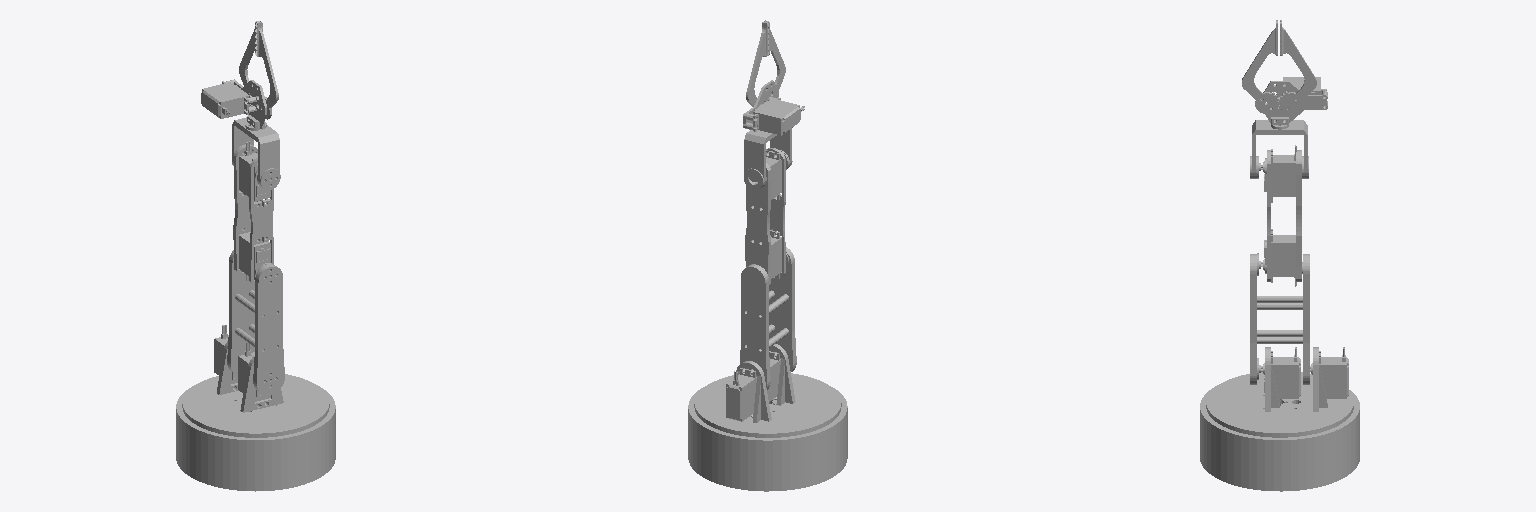
URDF robot description (tu_nguyen):
?<?xml version="1.0" encoding="utf-8" ?>
<!-- This URDF was automatically created by SolidWorks to URDF Exporter! Originally created by [author] ([email redacted]) 
     Commit Version: 1.5.1-0-g916b5db  Build Version: 1.5.7152.31018
     For more information, please see http://wiki.ros.org/sw_urdf_exporter -->
<robot name="tu_nguyen">

    
    <link name="base_link">
        
<inertial>
            <origin xyz="0.00078394 -0.00078007 0.036251" rpy="0 0 0" />
            <mass value="0.35184" />
            <inertia ixx="0.00085551" ixy="3.9719E-05" ixz="-8.5247E-07" iyy="0.00085359" iyz="8.7202E-07" izz="0.0015197" />
        </inertial>

        <visual>
            <origin xyz="0 0 0" rpy="0 0 0" />
            <geometry>
                <mesh filename="package://tu_nguyen/meshes/base_link.STL" />
            </geometry>
            <material name="">
                <color rgba="0.74902 0.74902 0.74902 1" />
            </material>
        </visual>
        <collision>
            <origin xyz="0 0 0" rpy="0 0 0" />
            <geometry>
                <mesh filename="package://tu_nguyen/meshes/base_link.STL" />
            </geometry>
        </collision>
    </link>


    <link name="link_1">
        
<inertial>
            <origin xyz="3.4402E-05 0.011453 0.016551" rpy="0 0 0" />
            <mass value="0.17883" />
            <inertia ixx="0.0001965" ixy="2.8865E-09" ixz="2.0476E-08" iyy="0.00018359" iyz="-6.3455E-06" izz="0.0003234" />
        </inertial>

        <visual>
            <origin xyz="0 0 0" rpy="0 0 0" />
            <geometry>
                <mesh filename="package://tu_nguyen/meshes/link_1.STL" />
            </geometry>
            <material name="">
                <color rgba="0.74902 0.74902 0.74902 1" />
            </material>
        </visual>
        <collision>
            <origin xyz="0 0 0" rpy="0 0 0" />
            <geometry>
                <mesh filename="package://tu_nguyen/meshes/link_1.STL" />
            </geometry>
        </collision>
    </link>
    <joint name="joint_1" type="revolute">
        <origin xyz="0 0 0.06" rpy="0 0 0" />
        <parent link="base_link" />
        <child link="link_1" />
        <axis xyz="0 0 1" />
        <limit lower="-1.708" upper="1.708" effort="300" velocity="1" />
    </joint>
    <link name="link_2">
        
<inertial>
            <origin xyz="3.6013E-07 0.023022 0.056301" rpy="0 0 0" />
            <mass value="0.073669" />
            <inertia ixx="0.00011985" ixy="4.0562E-11" ixz="1.6465E-10" iyy="0.0001173" iyz="-3.611E-07" izz="1.434E-05" />
        </inertial>

        <visual>
            <origin xyz="0 0 0" rpy="0 0 0" />
            <geometry>
                <mesh filename="package://tu_nguyen/meshes/link_2.STL" />
            </geometry>
            <material name="">
                <color rgba="0.74902 0.74902 0.74902 1" />
            </material>
        </visual>
        <collision>
            <origin xyz="0 0 0" rpy="0 0 0" />
            <geometry>
                <mesh filename="package://tu_nguyen/meshes/link_2.STL" />
            </geometry>
        </collision>
    </link>
    <joint name="joint_2" type="revolute">
        <origin xyz="0.00010548 -0.024031 0.044" rpy="0 0 0" />
        <parent link="link_1" />
        <child link="link_2" />
        <axis xyz="0 1 0" />
        <limit lower="-1.708" upper="1.708" effort="300" velocity="1" />
    </joint>
    <link name="link_3">
        
<inertial>
            <origin xyz="-3.96617753665222E-06 0.0291072422360279 0.0569268959166495" rpy="0 0 0" />
            <mass value="0.0853549537054368" />
            <inertia ixx="5.06192462099083E-05" ixy="-3.09386216016138E-11" ixz="-1.3594525196218E-08" iyy="5.28546441510861E-05" iyz="3.20776653060743E-08" izz="5.15582429795402E-06" />
        </inertial>

        <visual>
            <origin xyz="0 0 0" rpy="0 0 0" />
            <geometry>
                <mesh filename="package://tu_nguyen/meshes/link_3.STL" />
            </geometry>
            <material name="">
                <color rgba="0.749019607843137 0.749019607843137 0.749019607843137 1" />
            </material>
        </visual>
        <collision>
            <origin xyz="0 0 0" rpy="0 0 0" />
            <geometry>
                <mesh filename="package://tu_nguyen/meshes/link_3.STL" />
            </geometry>
        </collision>
    </link>
    <joint name="joint_3" type="revolute">
        <origin xyz="0 0 0.12194" rpy="0 0 0" />
        <parent link="link_2" />
        <child link="link_3" />
        <axis xyz="0 1 0" />
        <limit lower="-1.708" upper="1.708" effort="300" velocity="1" />
    </joint>
    <link name="link_4">
        
<inertial>
            <origin xyz="-0.0120735458637133 0.036074545399959 0.0579060953746561" rpy="0 0 0" />
            <mass value="0.0614391558855416" />
            <inertia ixx="2.8354849567181E-05" ixy="9.2995830866633E-08" ixz="2.44976833545897E-10" iyy="1.17555381784956E-05" iyz="-4.17687884392995E-07" izz="2.0099784279376E-05" />
        </inertial>

        <visual>
            <origin xyz="0 0 0" rpy="0 0 0" />
            <geometry>
                <mesh filename="package://tu_nguyen/meshes/link_4.STL" />
            </geometry>
            <material name="">
                <color rgba="0.749019607843137 0.749019607843137 0.749019607843137 1" />
            </material>
        </visual>
        <collision>
            <origin xyz="0 0 0" rpy="0 0 0" />
            <geometry>
                <mesh filename="package://tu_nguyen/meshes/link_4.STL" />
            </geometry>
        </collision>
    </link>
    <joint name="joint_4" type="revolute">
        <origin xyz="0 0 0.114" rpy="0 0 0" />
        <parent link="link_3" />
        <child link="link_4" />
        <axis xyz="0 1 0" />
        <limit lower="-1.708" upper="1.708" effort="300" velocity="1" />
    </joint>
    <link name="link_51">
        
<inertial>
            <origin xyz="0.00149998785731969 -0.00291234349816738 0.0342421582199686" rpy="0 0 0" />
            <mass value="0.00475482638149408" />
            <inertia ixx="4.94751489323072E-06" ixy="6.03151233825932E-13" ixz="2.32482274648162E-12" iyy="4.41447487378701E-06" iyz="-5.04499946684658E-07" izz="5.4368013054544E-07" />
        </inertial>

        <visual>
            <origin xyz="0 0 0" rpy="0 0 0" />
            <geometry>
                <mesh filename="package://tu_nguyen/meshes/link_51.STL" />
            </geometry>
            <material name="">
                <color rgba="0.749019607843137 0.749019607843137 0.749019607843137 1" />
            </material>
        </visual>
        <collision>
            <origin xyz="0 0 0" rpy="0 0 0" />
            <geometry>
                <mesh filename="package://tu_nguyen/meshes/link_51.STL" />
            </geometry>
        </collision>
    </link>
    <joint name="joint_51" type="revolute">
        <origin xyz="0.0015 0.0096756 0.07625" rpy="0 0 0" />
        <parent link="link_4" />
        <child link="link_51" />
        <axis xyz="1 0 0" />
        <limit lower="0" upper="0.4" effort="300" velocity="1" />
    </joint>
    <link name="link_52">
        
<inertial>
            <origin xyz="0.00150001214059608 0.00290820241921078 0.0342746337461361" rpy="0 0 0" />
            <mass value="0.00475475613653127" />
            <inertia ixx="4.93711727641837E-06" ixy="6.02977678312998E-13" ixz="-2.32505912287766E-12" iyy="4.40383720688213E-06" iyz="5.04733188504208E-07" izz="5.43920075735643E-07" />
        </inertial>

        <visual>
            <origin xyz="0 0 0" rpy="0 0 0" />
            <geometry>
                <mesh filename="package://tu_nguyen/meshes/link_52.STL" />
            </geometry>
            <material name="">
                <color rgba="0.749019607843137 0.749019607843137 0.749019607843137 1" />
            </material>
        </visual>
        <collision>
            <origin xyz="0 0 0" rpy="0 0 0" />
            <geometry>
                <mesh filename="package://tu_nguyen/meshes/link_52.STL" />
            </geometry>
        </collision>
    </link>
    <joint name="joint_52" type="revolute">
        <origin xyz="0.0015 0.036676 0.07625" rpy="0 0 0" />
        <parent link="link_4" />
        <child link="link_52" />
        <axis xyz="1 0 0" />
        <limit lower="-0.4" upper="0" effort="300" velocity="1" />
    </joint>
    

    <transmission name="trans_joint_1">
        <type>transmission_interface/SimpleTransmission</type>
        <joint name="joint_1">
            <hardwareInterface>hardware_interface/PositionJointInterface</hardwareInterface>
        </joint>
        <actuator name="joint_1_motor">
            <hardwareInterface>hardware_interface/PositionJointInterface</hardwareInterface>
            <mechanicalReduction>1</mechanicalReduction>
        </actuator>
    </transmission>
    <transmission name="trans_joint_2">
        <type>transmission_interface/SimpleTransmission</type>  
        <joint name="joint_2">
            <hardwareInterface>hardware_interface/PositionJointInterface</hardwareInterface>
        </joint>
        <actuator name="joint_2_motor">
            <hardwareInterface>hardware_interface/PositionJointInterface</hardwareInterface>
            <mechanicalReduction>1</mechanicalReduction>
        </actuator>
    </transmission>
    <transmission name="trans_joint_3">
        <type>transmission_interface/SimpleTransmission</type>
        <joint name="joint_3">
            <hardwareInterface>hardware_interface/PositionJointInterface</hardwareInterface>
        </joint>
        <actuator name="joint_3_motor">
            <hardwareInterface>hardware_interface/PositionJointInterface</hardwareInterface>
            <mechanicalReduction>1</mechanicalReduction>
        </actuator>
    </transmission>
    <transmission name="trans_joint_4">
        <type>transmission_interface/SimpleTransmission</type>
        <joint name="joint_4">
            <hardwareInterface>hardware_interface/PositionJointInterface</hardwareInterface>
        </joint>
        <actuator name="joint_4_motor">
            <hardwareInterface>hardware_interface/PositionJointInterface</hardwareInterface>
            <mechanicalReduction>1</mechanicalReduction>
        </actuator>
    </transmission>

    <gazebo>
        <plugin name="gazebo_ros_control" filename="libgazebo_ros_control.so">
            
        </plugin>
    </gazebo>
</robot>

--- Facts derived from the render (not from the file) ---
3 views of the same robot in one strip: view 1: azimuth 30°, elevation 25°; view 2: azimuth 150°, elevation 25°; view 3: azimuth 270°, elevation 25° (orthographic).
Robot: tu_nguyen — 7 links, 6 joints (6 revolute); root link base_link; default pose: all joints at 0.
Links seen in each view (by area): view 1: base_link, link_1, link_2, link_3, link_4, link_51; view 2: base_link, link_1, link_2, link_3, link_4, link_52; view 3: link_1, base_link, link_3, link_2, link_4, link_52, link_51.
Link boxes in pixels (x1,y1,x2,y2): base_link: (176,386,335,491); link_1: (182,325,329,437); link_2: (227,250,284,394); link_3: (233,141,273,285); link_4: (201,79,280,189); link_51: (257,22,278,119); base_link: (688,387,847,491); link_1: (694,344,841,437); link_2: (740,247,796,389); link_3: (745,148,788,284); link_4: (743,80,804,189); link_52: (746,22,767,106); link_1: (1206,347,1353,437); base_link: (1200,385,1359,491); link_3: (1257,145,1302,286); link_2: (1250,254,1309,384); link_4: (1250,77,1327,178); link_52: (1278,20,1316,115); link_51: (1242,20,1279,115).
Size in the robot's own frame: 0.1699 by 0.1699 by 0.5123 metres.
7 mesh visuals loaded from 7 distinct referenced files (7 binary STL).
